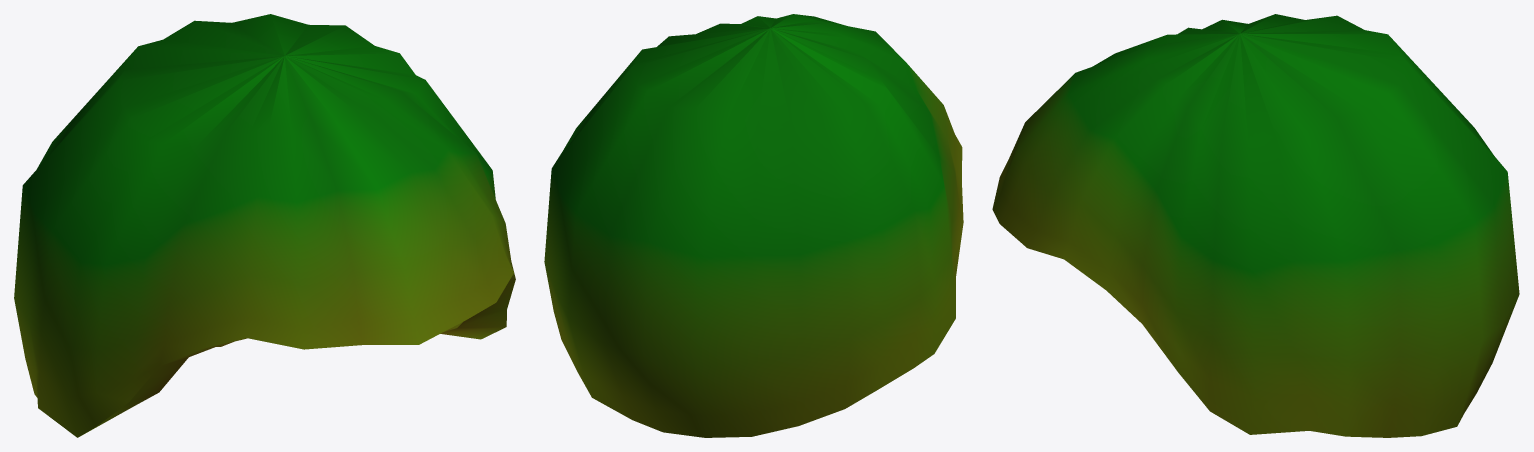
The model's file is bowl.glb.
3 renders of one model, left to right at view 1: azimuth 30°, elevation 25°; view 2: azimuth 150°, elevation 25°; view 3: azimuth 270°, elevation 25°, orthographic. The views are drawn at different scales.
Parts seen in each view (by area): view 1: hair_bowl; view 2: hair_bowl; view 3: hair_bowl.
Part boxes in pixels (x1,y1,x2,y2): hair_bowl: (14, 14, 515, 437); hair_bowl: (544, 14, 963, 437); hair_bowl: (992, 14, 1519, 437).
Bounding box in the file's own units: 0.1993 × 0.1758 × 0.2331.
